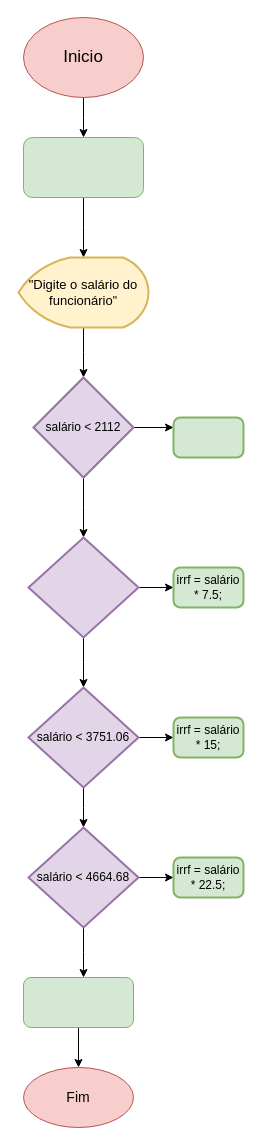
Image size: 261x1145. Some labels were removed from this diagram. The shapes that lost their labels are listed below. From the top down, each one's centre as x and y in pixels, then its label:
point (83, 167): salário ; irrf ;
point (208, 437): irrf = 0;
point (83, 587): salário < 2826.66
point (78, 1002): O irrf é:
